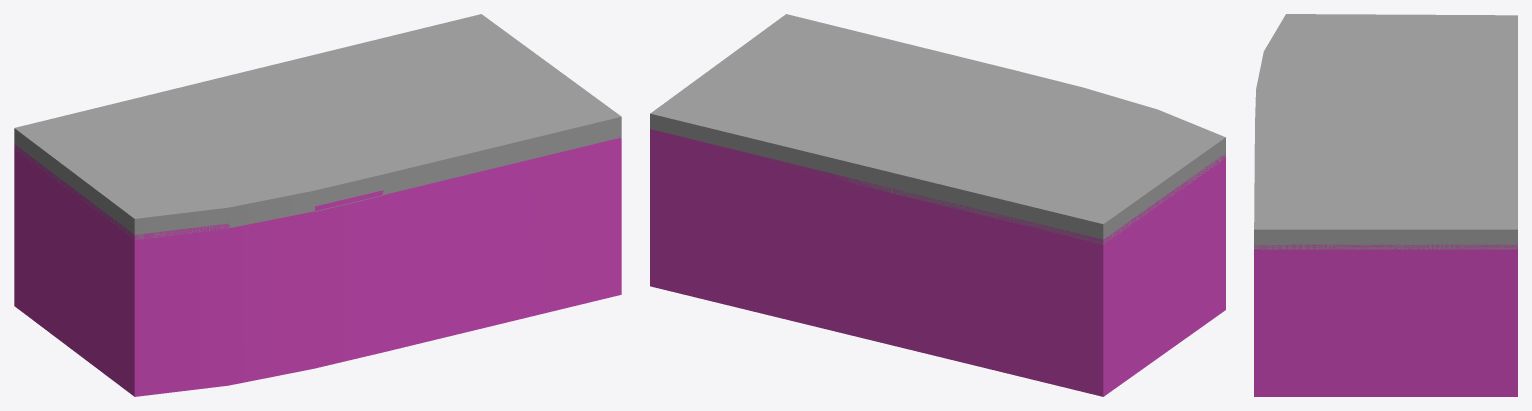
Rendered from KamerOuders.fbx.
3 views of the same model, side by side, from view 1: azimuth 30°, elevation 25°; view 2: azimuth 150°, elevation 25°; view 3: azimuth 270°, elevation 25° (orthographic). The views are drawn at different scales.
Parts seen in each view (by area): view 1: KamerOuder, KamerOuder1; view 2: KamerOuder, KamerOuder1; view 3: KamerOuder1, KamerOuder.
Part boxes in pixels (x1=…): KamerOuder: x1=14, y1=136, x2=621, y2=396; KamerOuder1: x1=14, y1=14, x2=621, y2=239; KamerOuder: x1=650, y1=129, x2=1225, y2=396; KamerOuder1: x1=650, y1=14, x2=1225, y2=244; KamerOuder1: x1=1254, y1=14, x2=1517, y2=249; KamerOuder: x1=1254, y1=244, x2=1517, y2=396.
Size of the model in its own units: 1892 by 685 by 978.
